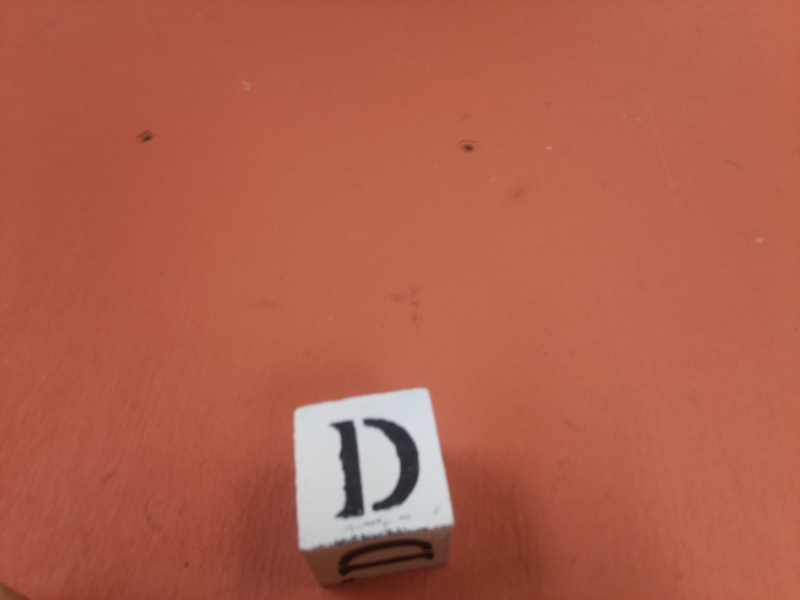blockD: (290, 389, 456, 587)
